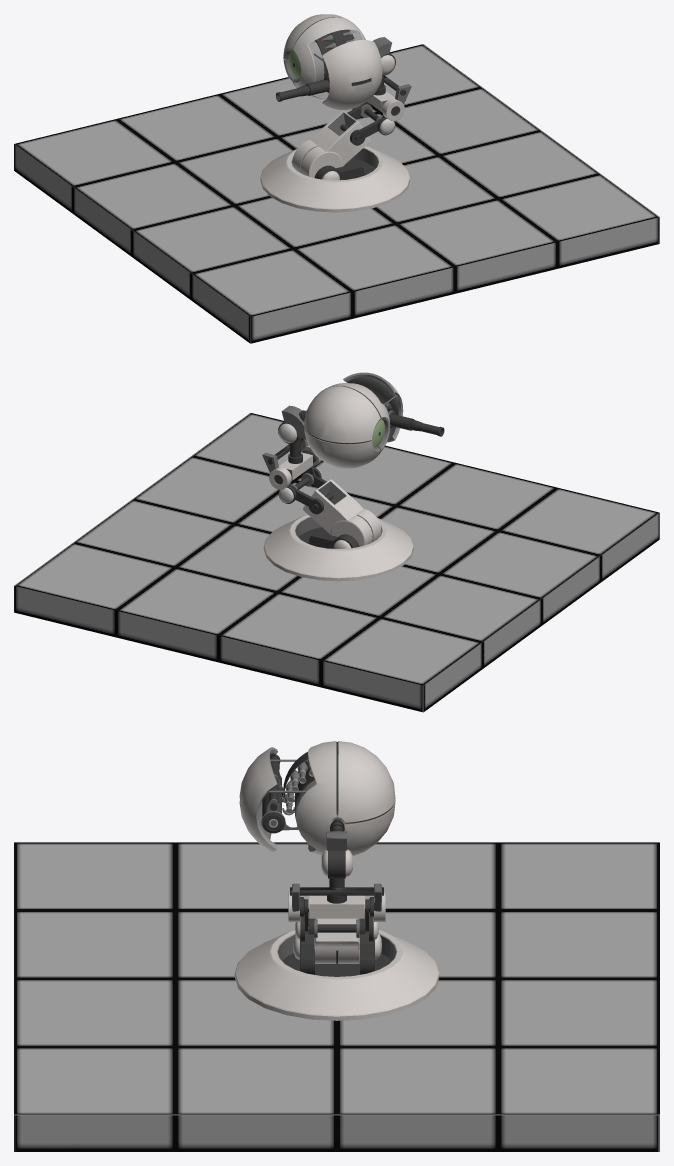
Rendered from turret_rocket.obj.
3 views of the same model, one above another, from view 1: azimuth 30°, elevation 25°; view 2: azimuth 150°, elevation 25°; view 3: azimuth 270°, elevation 25° (orthographic). The views are drawn at different scales.
Visible parts, largest first — view 1: Cube.006, rocket_turret_1.mdl/rocket_turret_1.smd; view 2: Cube.006, rocket_turret_1.mdl/rocket_turret_1.smd; view 3: Cube.006, rocket_turret_1.mdl/rocket_turret_1.smd.
Boxes of the visible parts, <box> form: Cube.006: <box>14,44,659,343</box>; rocket_turret_1.mdl/rocket_turret_1.smd: <box>260,14,411,212</box>; Cube.006: <box>14,412,659,712</box>; rocket_turret_1.mdl/rocket_turret_1.smd: <box>262,372,444,581</box>; Cube.006: <box>14,842,659,1151</box>; rocket_turret_1.mdl/rocket_turret_1.smd: <box>234,741,439,1020</box>.
Bounding box in the file's own units: 2 × 0.8944 × 2.
